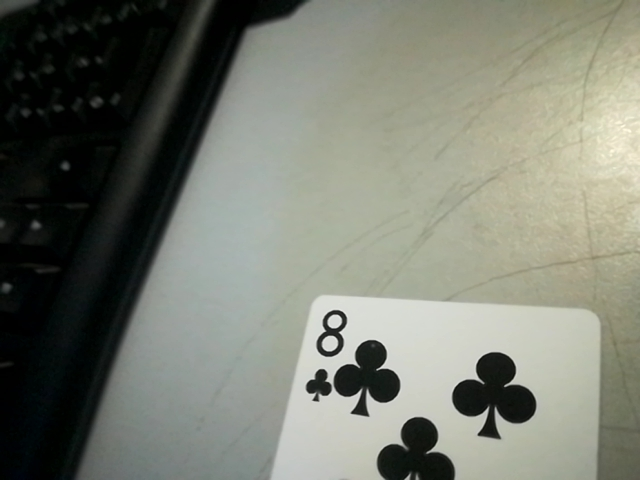mh 8: (298, 301, 346, 405)
